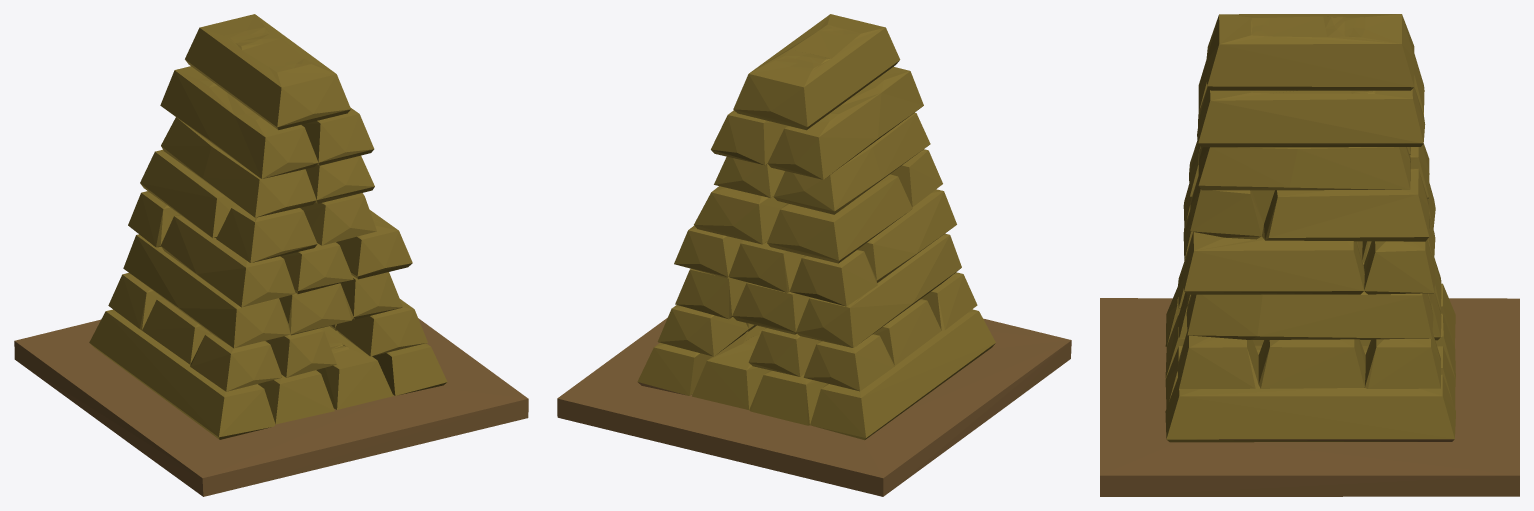
File: Lingote_oro.fbx
3 views of the same model, side by side, from view 1: azimuth 30°, elevation 25°; view 2: azimuth 150°, elevation 25°; view 3: azimuth 270°, elevation 25° (orthographic). The views are drawn at different scales.
Parts seen in each view (by area): view 1: Lingote_de_oro; view 2: Lingote_de_oro; view 3: Lingote_de_oro.
Part boxes in pixels (left/top/right/bottom): Lingote_de_oro: left=14, top=14, right=528, bottom=496; Lingote_de_oro: left=557, top=14, right=1071, bottom=496; Lingote_de_oro: left=1100, top=14, right=1519, bottom=496.
Size of the model in its own units: 15305 by 15296 by 15309.
